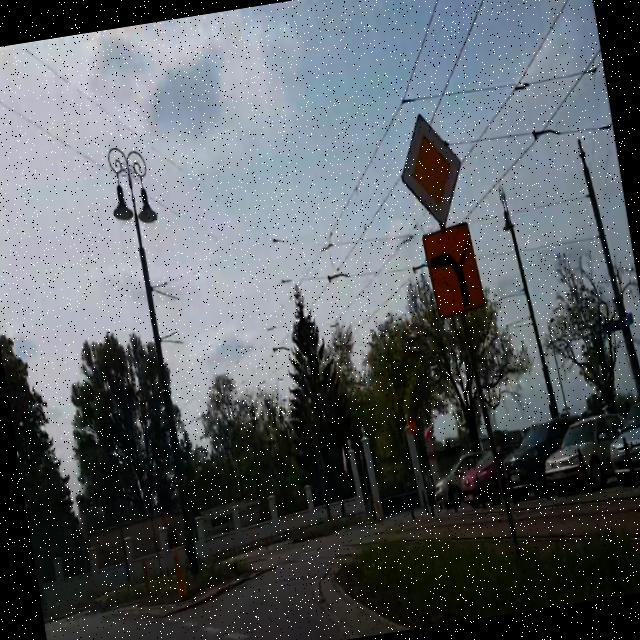Droga z pierwszenstwem: (389, 108, 472, 228)
